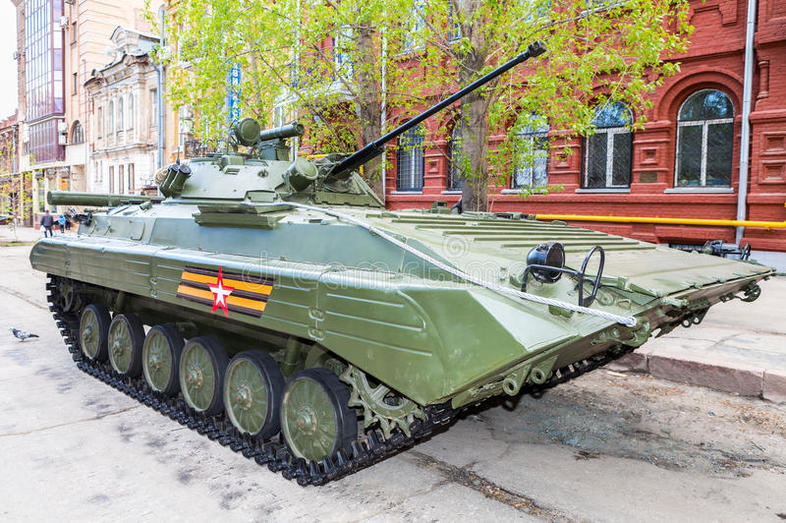bmp: (31, 122, 772, 491)
